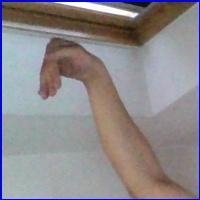del: (35, 36, 108, 107)
